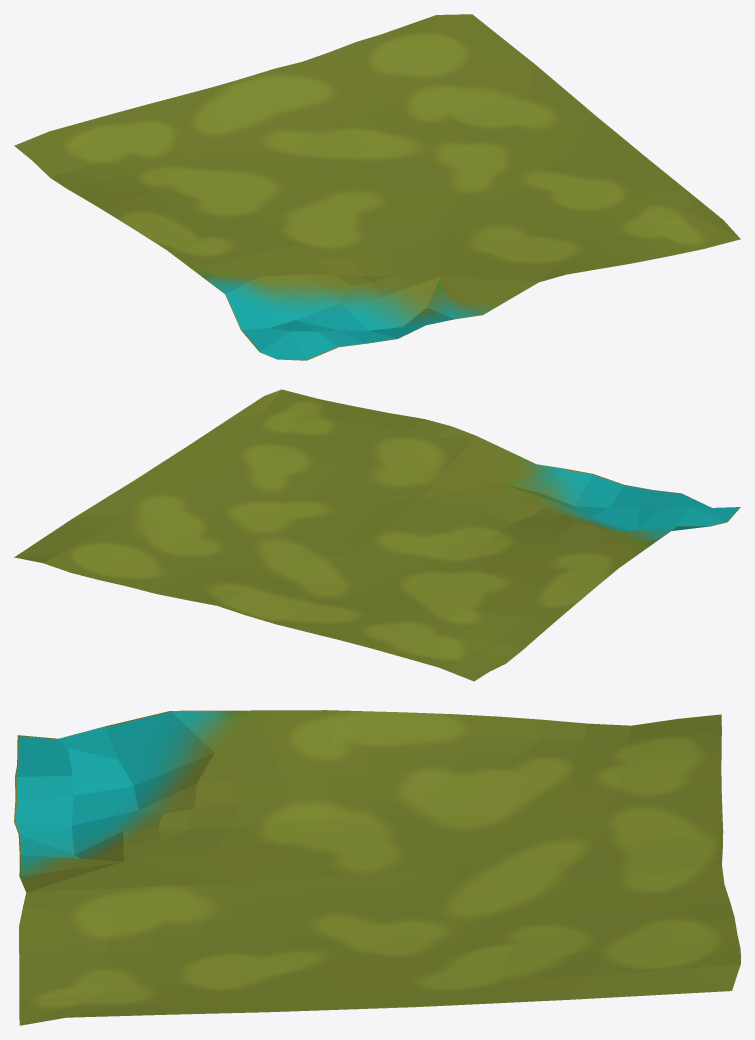
Rendered from River Terain 1.glb.
3 renders of one model, top to bottom at view 1: azimuth 30°, elevation 25°; view 2: azimuth 150°, elevation 25°; view 3: azimuth 270°, elevation 25°, orthographic. The views are drawn at different scales.
Parts seen in each view (by area): view 1: Plane; view 2: Plane; view 3: Plane.
Boxes of the visible parts, x1,y1,x2,y2 form: Plane: (14,14,740,360); Plane: (14,389,740,681); Plane: (14,710,740,1025).
Bounding box in the file's own units: 30.82 × 3.58 × 31.27.
1 material, 1 textured.
